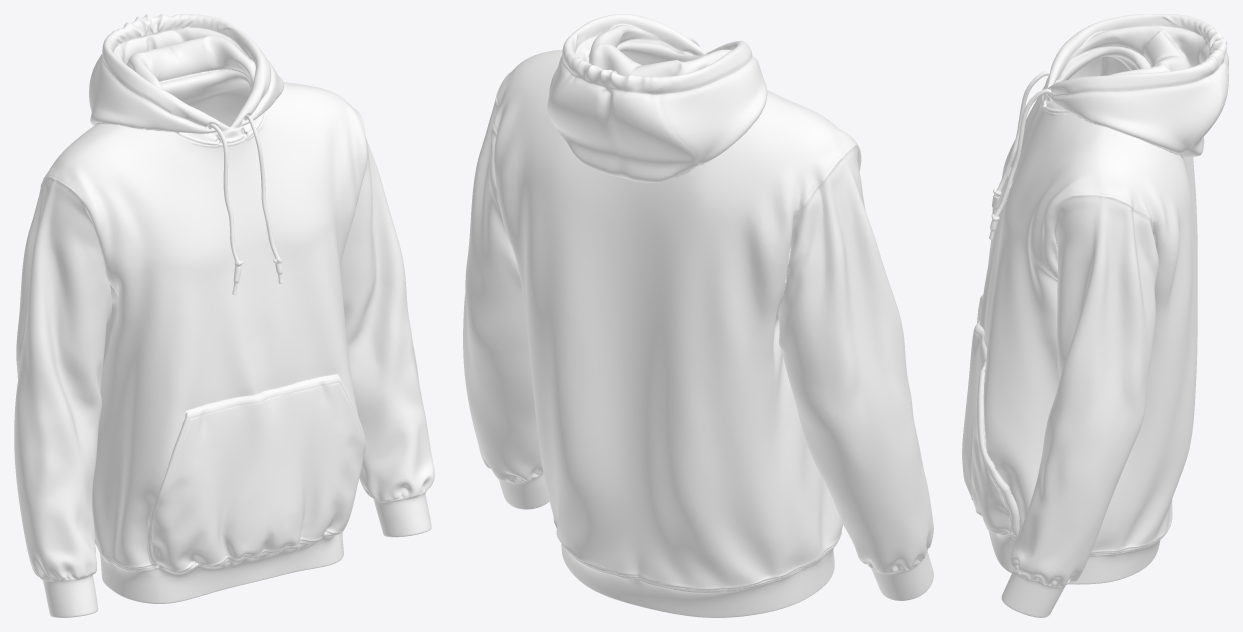
The model's file is meshy_hoodie.glb.
3 views of the same model, side by side, from view 1: azimuth 30°, elevation 25°; view 2: azimuth 150°, elevation 25°; view 3: azimuth 270°, elevation 25° (orthographic). The views are drawn at different scales.
Bounding box in the file's own units: 1.57 × 1.9 × 0.9208.
Materials: 1 (1 with a texture image).
